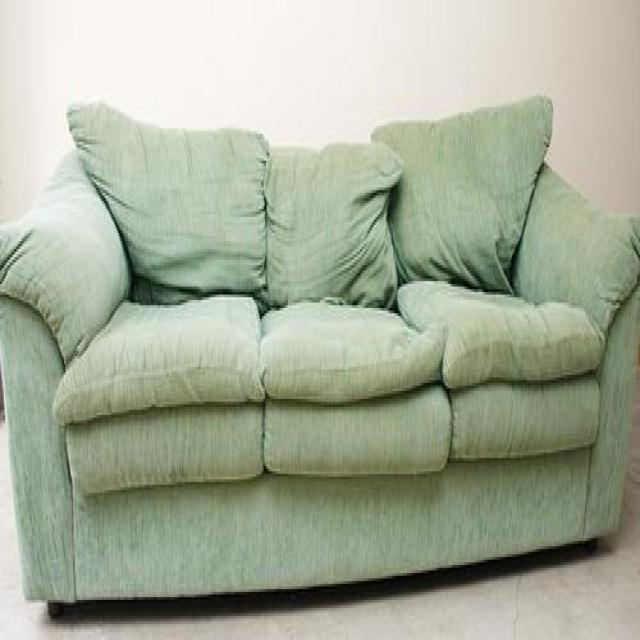sofa: (0, 94, 640, 622)
